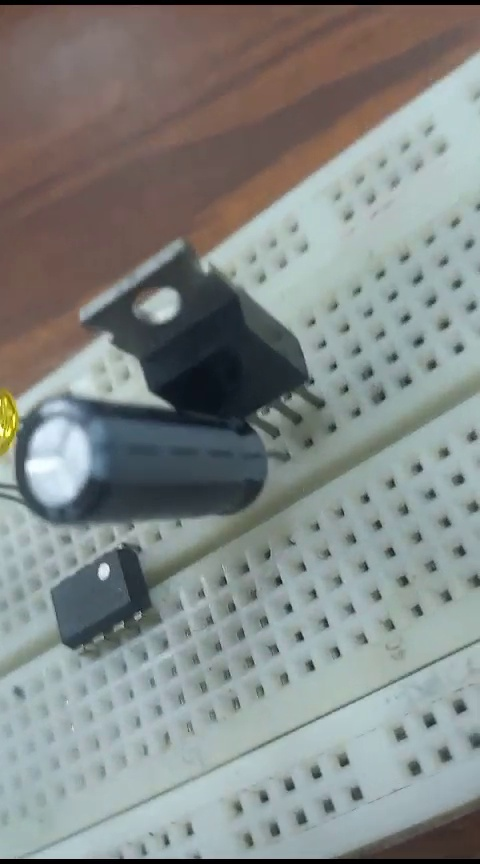IC: (46, 557, 164, 633)
capacitor: (22, 397, 275, 519)
voltage regulator: (56, 244, 352, 419)
